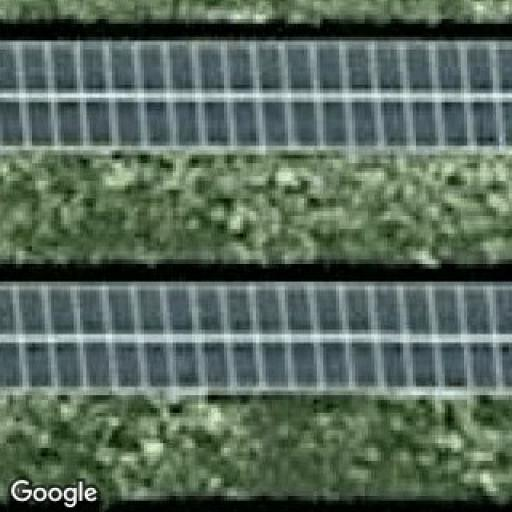solar-panel: (0, 283, 512, 400), (0, 42, 512, 152)
